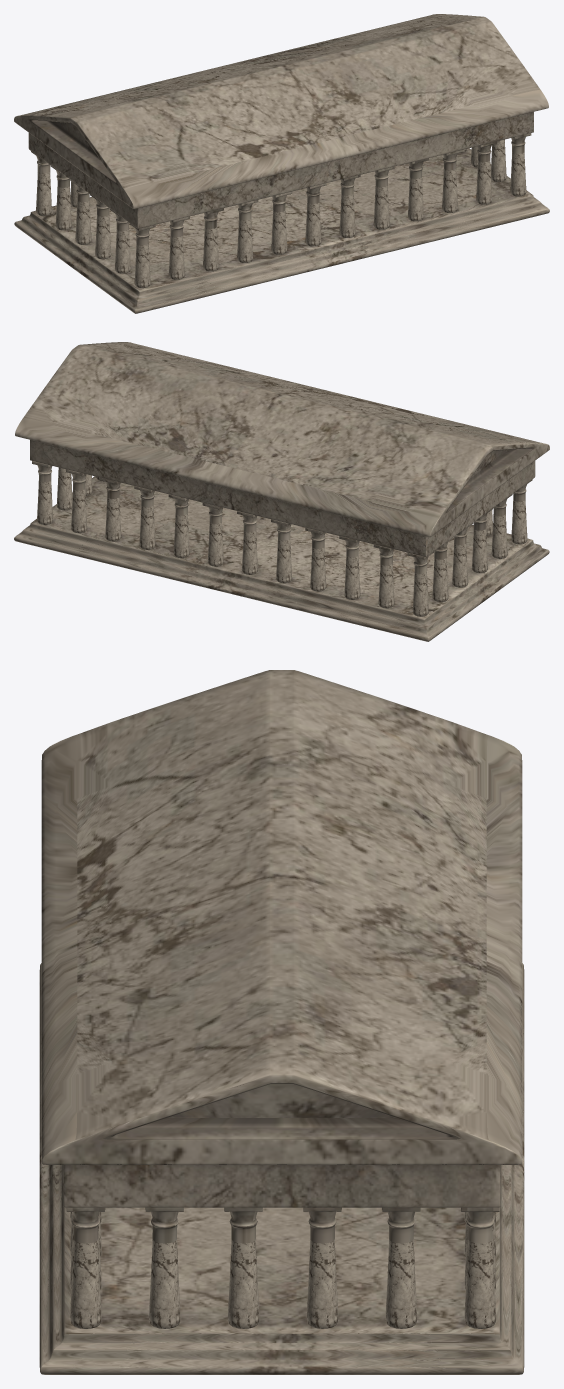
Rendered from greek_temple_scan.glb.
3 renders of one model, top to bottom at view 1: azimuth 30°, elevation 25°; view 2: azimuth 150°, elevation 25°; view 3: azimuth 270°, elevation 25°, orthographic. The views are drawn at different scales.
Parts seen in each view (by area): view 1: Temple1; view 2: Temple1; view 3: Temple1.
Part boxes in pixels (<box>): Temple1: <box>14,14,549,313</box>; Temple1: <box>14,342,549,641</box>; Temple1: <box>39,670,524,1374</box>.
Size of the model in its own units: 2 by 0.6935 by 1.01.
1 material, 1 textured.
